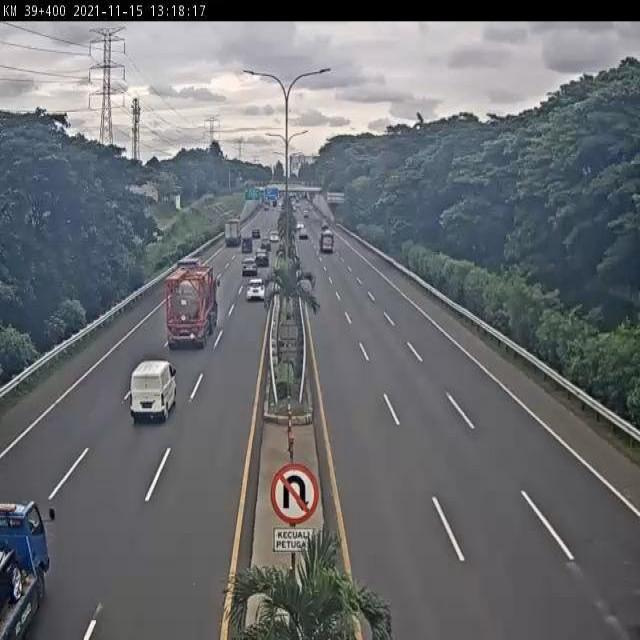bus-s-: (130, 358, 179, 422)
car: (245, 276, 268, 301)
truck-l-: (0, 498, 49, 640)
truck-xl-: (167, 265, 220, 348)
